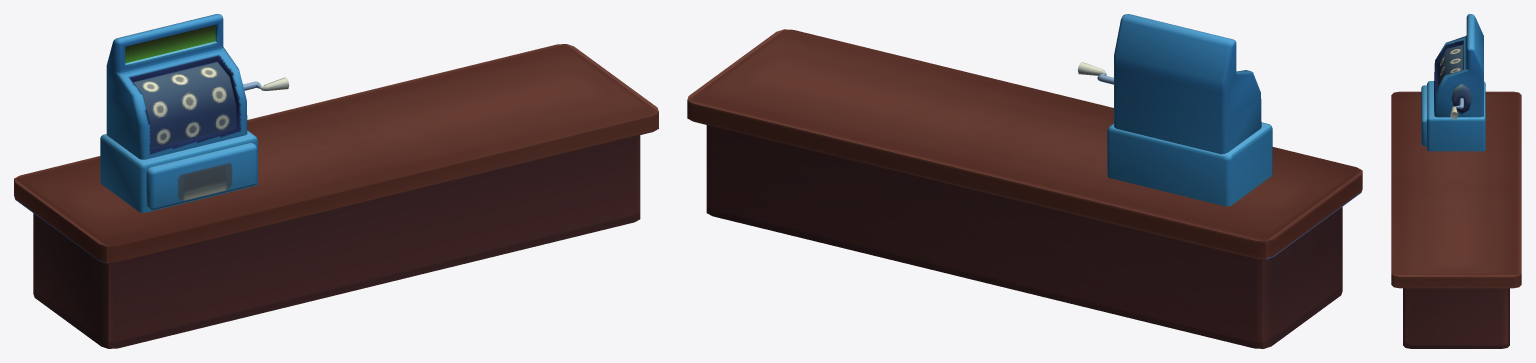
The model's file is Merchant@TableCashRegister.fbx.
3 renders of one model, left to right at view 1: azimuth 30°, elevation 25°; view 2: azimuth 150°, elevation 25°; view 3: azimuth 270°, elevation 25°, orthographic. The views are drawn at different scales.
Visible parts, largest first — view 1: table, Cash_register; view 2: table, Cash_register; view 3: table, Cash_register.
Boxes of the visible parts, x1=… form: table: x1=14, y1=44, x2=658, y2=348; Cash_register: x1=100, y1=14, x2=289, y2=212; table: x1=687, y1=29, x2=1362, y2=348; Cash_register: x1=1077, y1=14, x2=1272, y2=206; table: x1=1391, y1=91, x2=1521, y2=348; Cash_register: x1=1421, y1=14, x2=1485, y2=151.
Bounding box in the file's own units: 265 × 118 × 78.93.
1 material, 1 textured.
